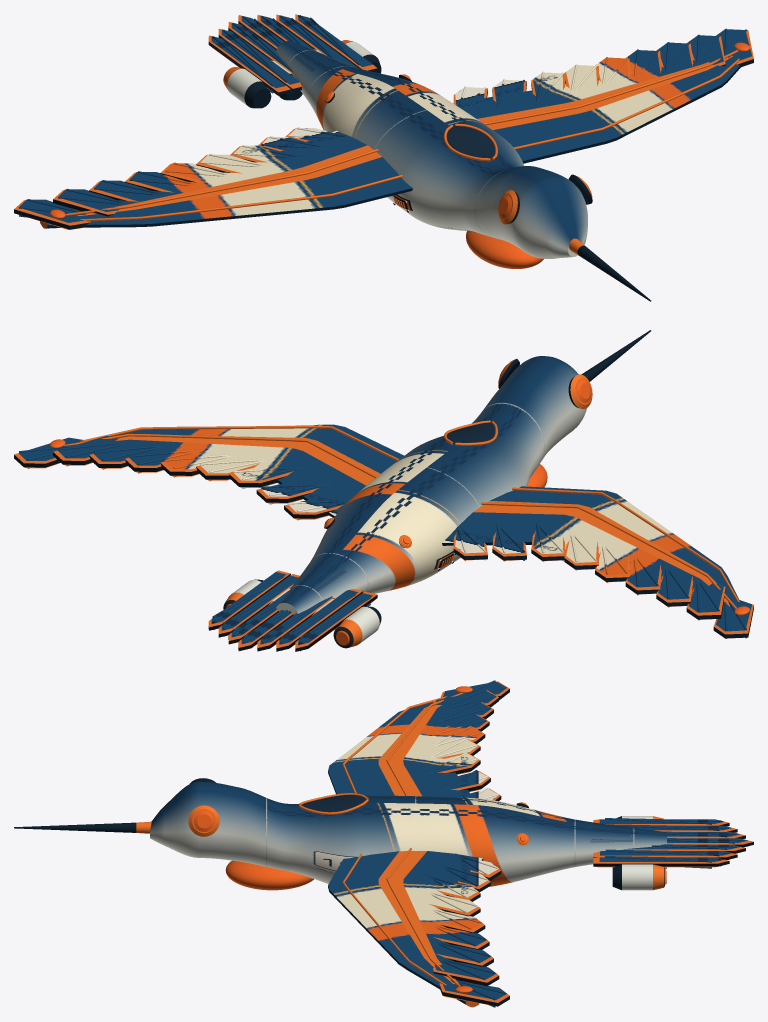
3 views of the same model, one above another, from view 1: azimuth 30°, elevation 25°; view 2: azimuth 150°, elevation 25°; view 3: azimuth 270°, elevation 25° (orthographic). The views are drawn at different scales.
Visible parts, largest first — view 1: hummingbird_hull; view 2: hummingbird_hull; view 3: hummingbird_hull.
Part boxes in pixels (x1=…): hummingbird_hull: x1=14, y1=14, x2=753, y2=301; hummingbird_hull: x1=14, y1=330, x2=753, y2=651; hummingbird_hull: x1=14, y1=680, x2=753, y2=1007.
Bounding box in the file's own units: 17 × 2.47 × 16.53.
Materials: 1 (1 with a texture image).
